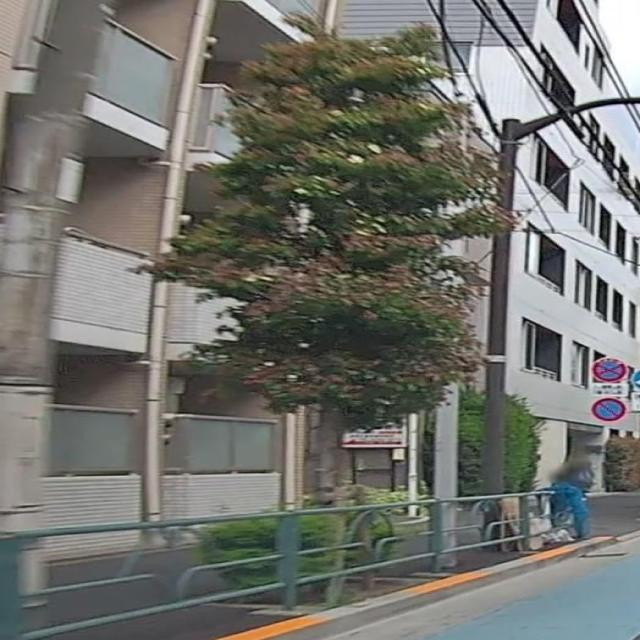maple: (126, 10, 524, 594)
